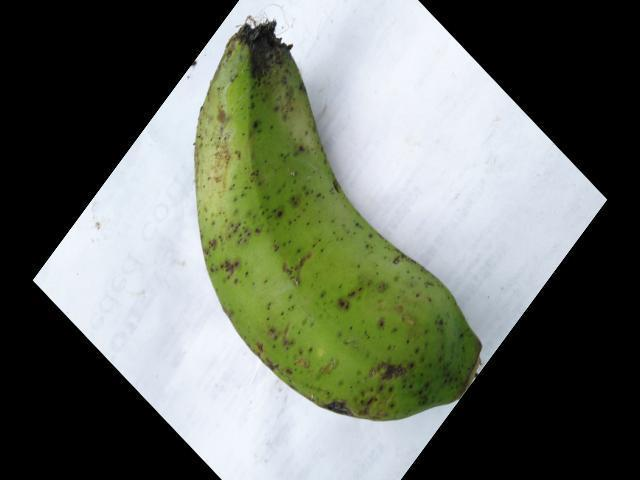unripe: (179, 10, 538, 464)
